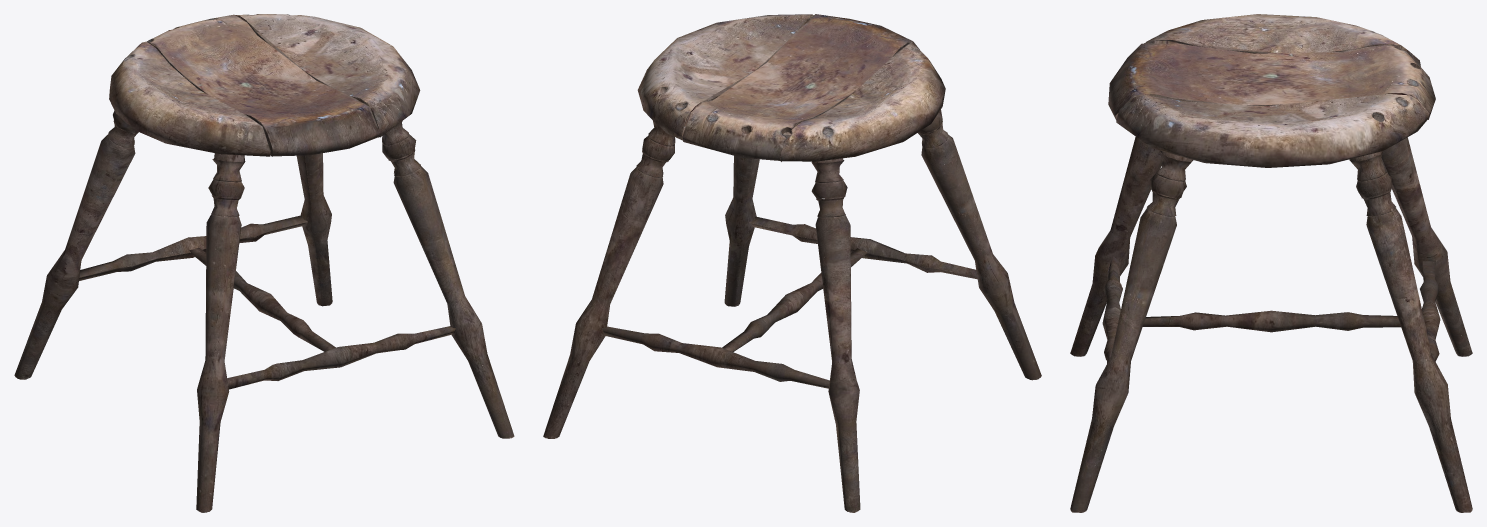
Rendered from music_stool.glb.
3 renders of one model, left to right at view 1: azimuth 30°, elevation 25°; view 2: azimuth 150°, elevation 25°; view 3: azimuth 270°, elevation 25°, orthographic. The views are drawn at different scales.
Visible parts, largest first — view 1: music_stool; view 2: music_stool; view 3: music_stool.
Part boxes in pixels (x1,y1,x2,y2): music_stool: (14, 14, 514, 512); music_stool: (543, 14, 1041, 512); music_stool: (1070, 14, 1472, 512).
Size of the model in its own units: 0.4466 by 0.4601 by 0.4653.
Materials: 1 (1 with a texture image).
